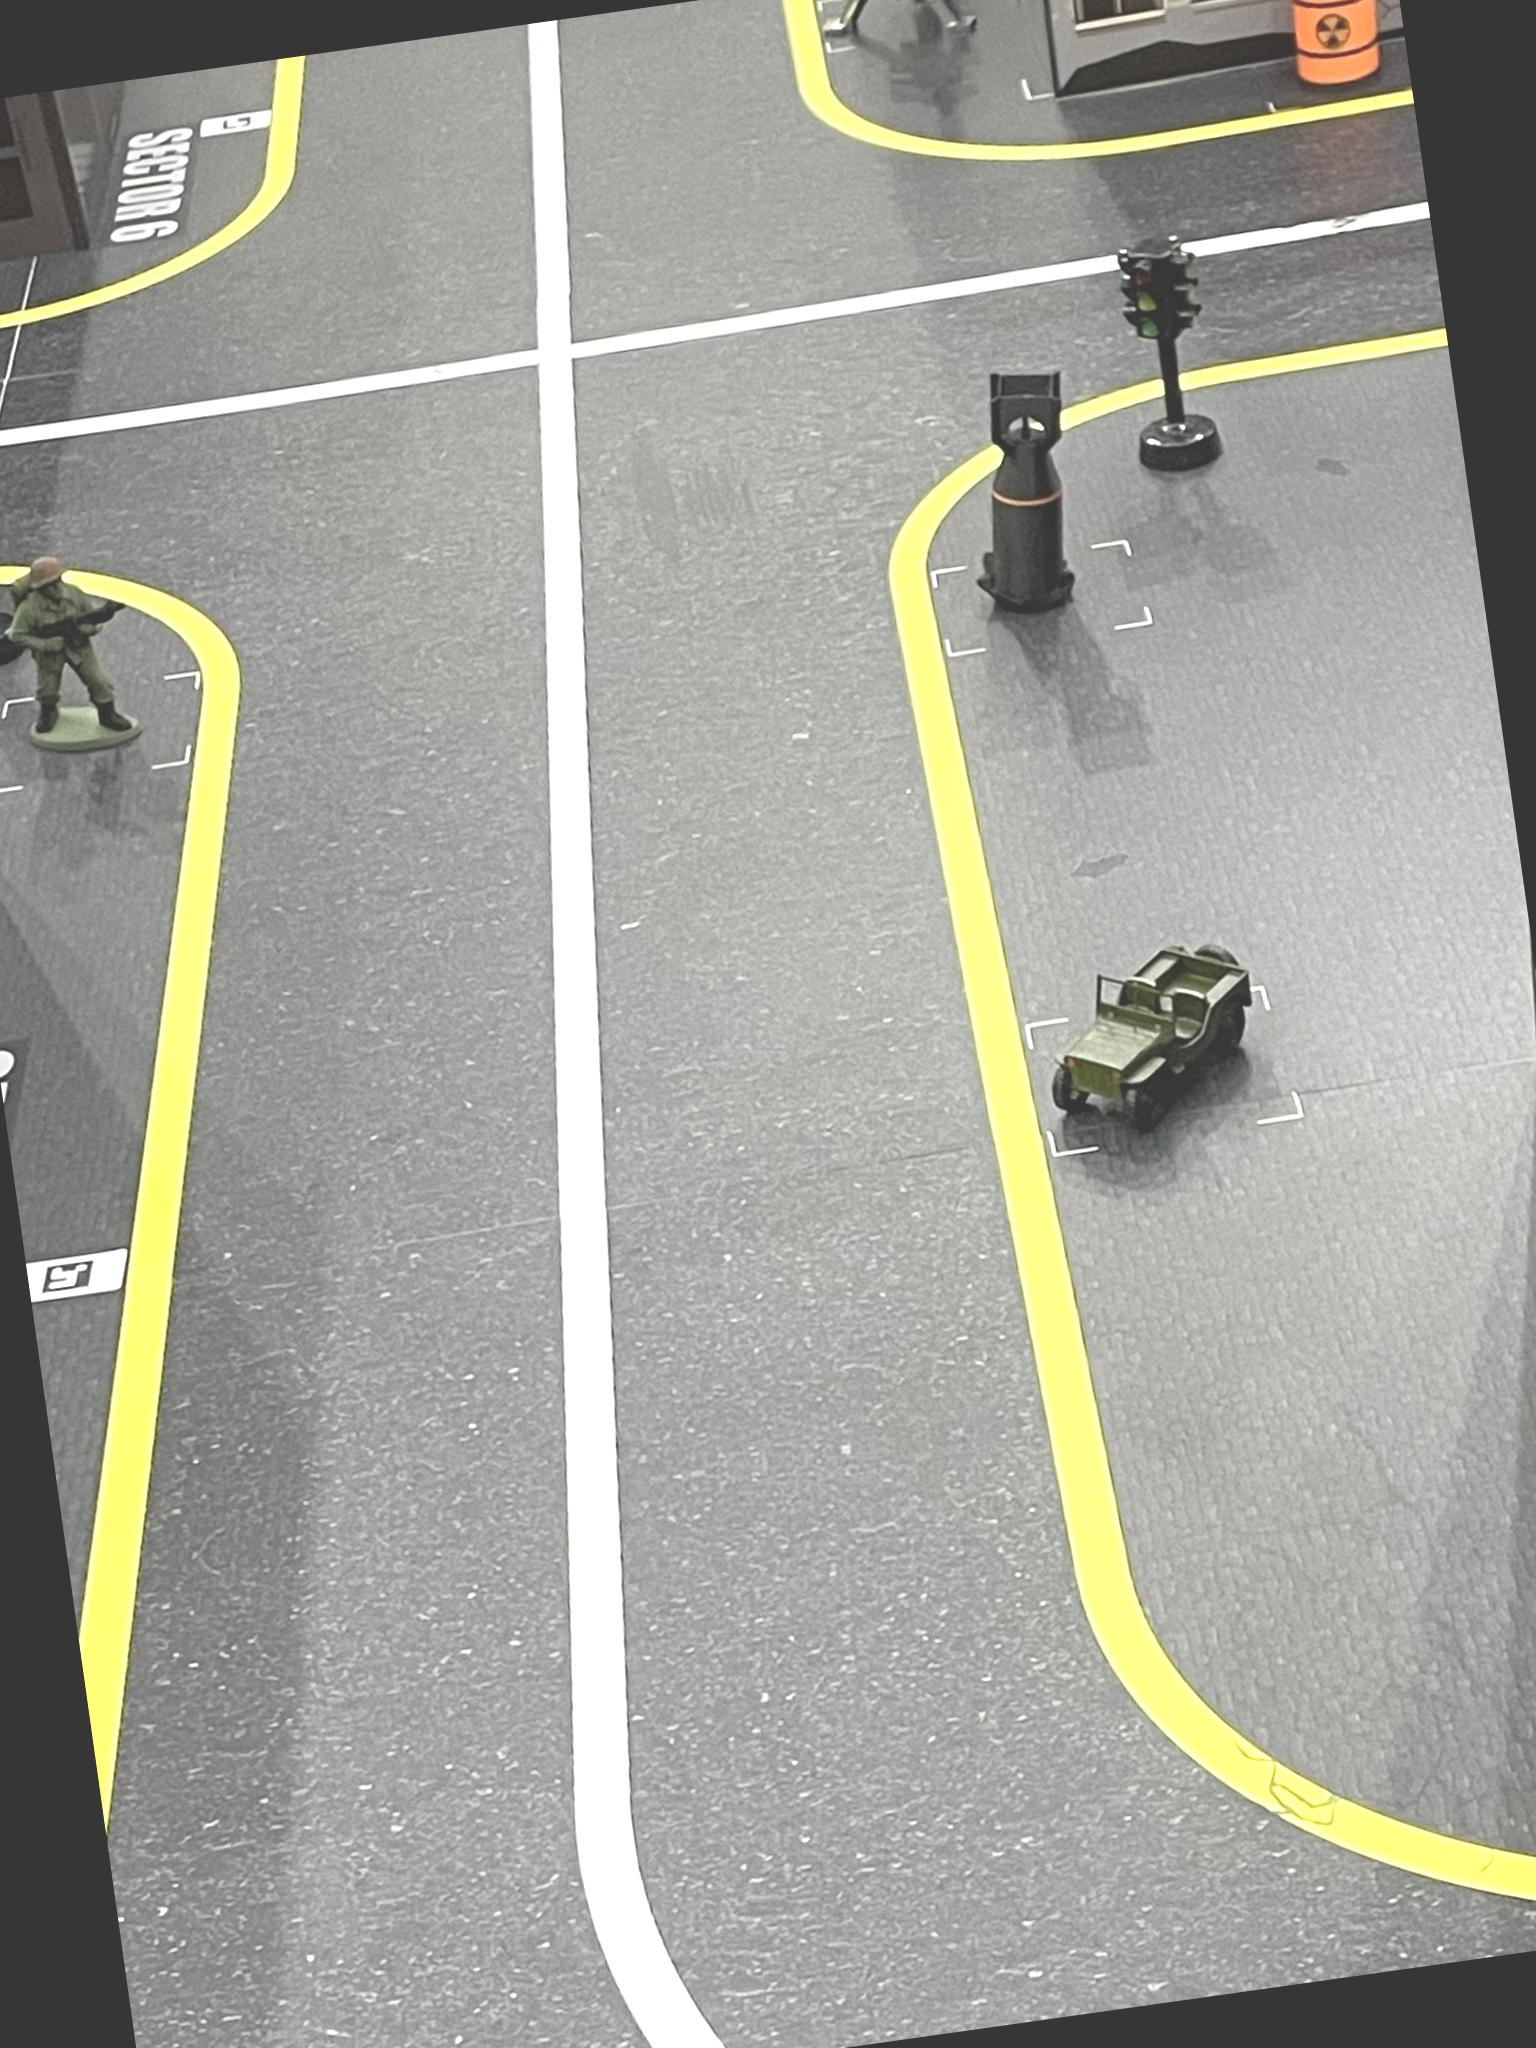Car: (1026, 926, 1279, 1145)
Enemy: (0, 547, 153, 769)
Hazmat: (1283, 0, 1394, 97)
Missile: (947, 355, 1107, 629)
Mortar: (810, 0, 999, 69)
